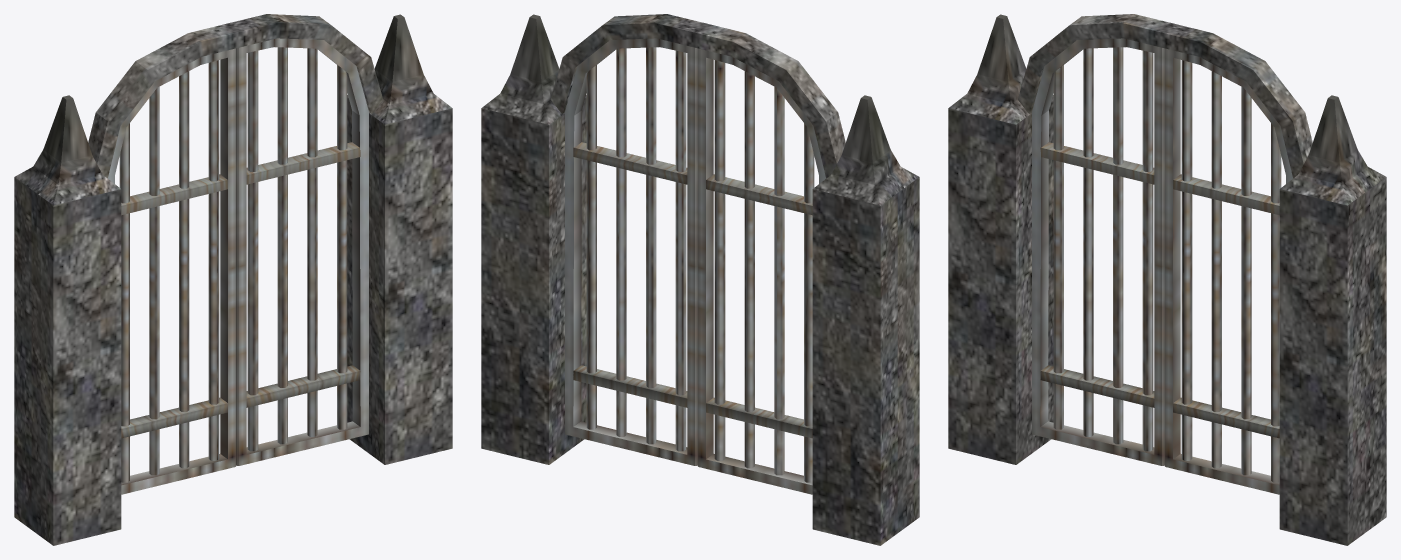
The model's file is Gate_placeholder 1.fbx.
3 views of the same model, side by side, from view 1: azimuth 30°, elevation 25°; view 2: azimuth 150°, elevation 25°; view 3: azimuth 330°, elevation 25° (orthographic).
Parts seen in each view (by area): view 1: GATE_placeholder, DOOR_RIGHT, DOOR_LEFT; view 2: GATE_placeholder, DOOR_RIGHT, DOOR_LEFT; view 3: GATE_placeholder, DOOR_LEFT, DOOR_RIGHT.
Part boxes in pixels (x1,y1,x2,y2): GATE_placeholder: (14, 14, 452, 545); DOOR_RIGHT: (236, 38, 369, 465); DOOR_LEFT: (108, 48, 236, 494); GATE_placeholder: (481, 14, 919, 545); DOOR_RIGHT: (564, 38, 697, 465); DOOR_LEFT: (697, 48, 825, 494); GATE_placeholder: (948, 14, 1386, 545); DOOR_LEFT: (1031, 38, 1164, 465); DOOR_RIGHT: (1164, 48, 1292, 494).
Size of the model in its own units: 308 by 335 by 52.32.
